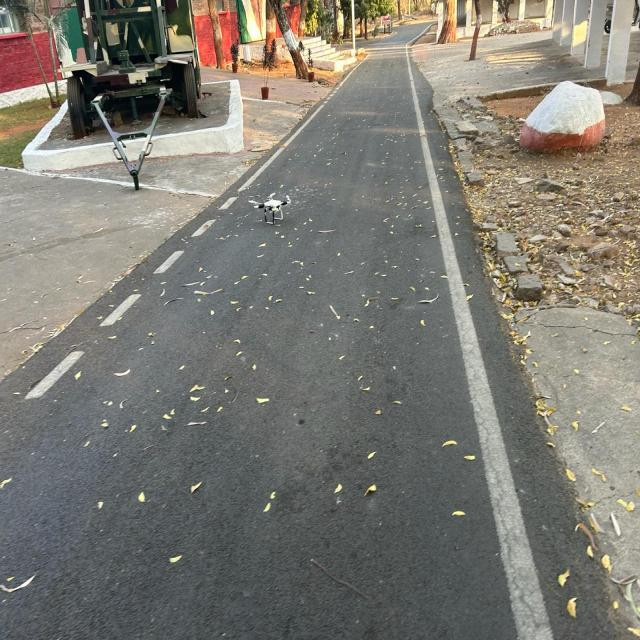drone: (227, 176, 310, 239)
